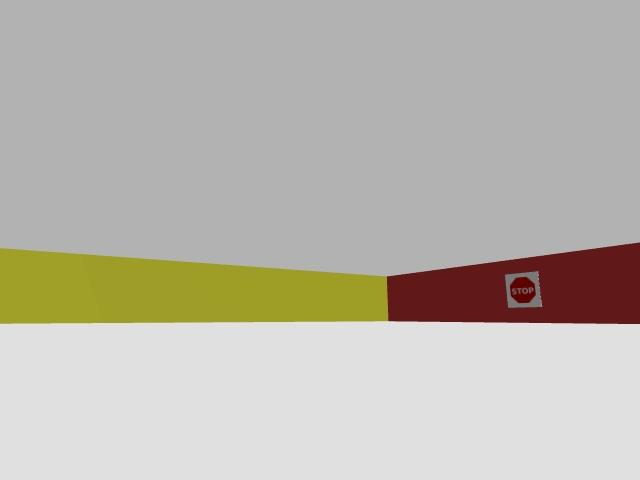stop: (507, 271, 541, 307)
